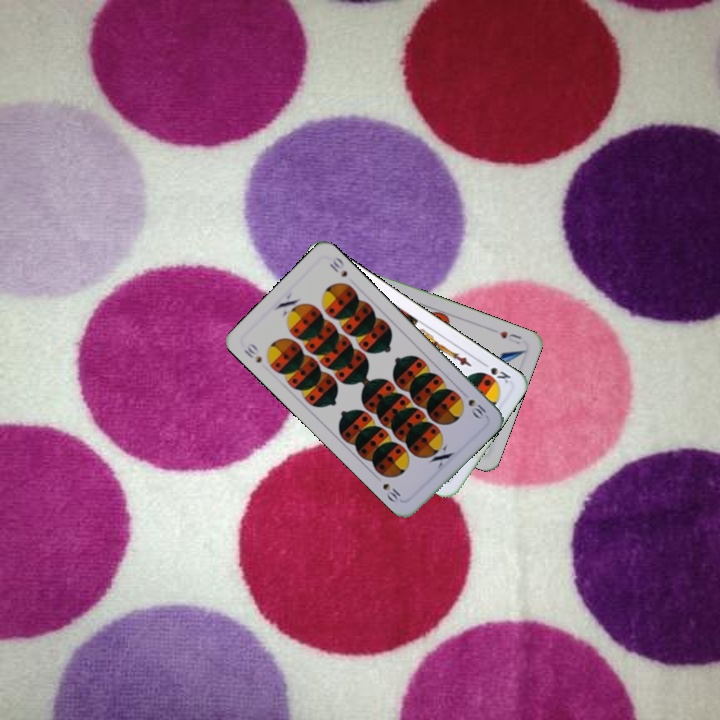HU: (495, 327, 524, 347)
S10: (457, 387, 489, 422), (239, 339, 264, 366)
SK: (477, 357, 513, 386)
